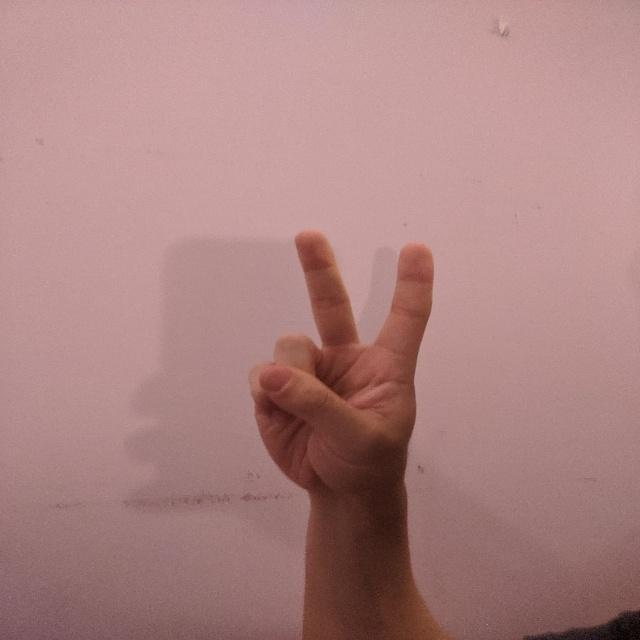V: (241, 224, 439, 494)
